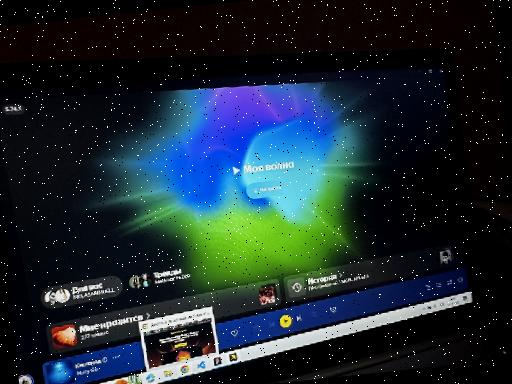yandexmusic: (0, 38, 476, 384)
